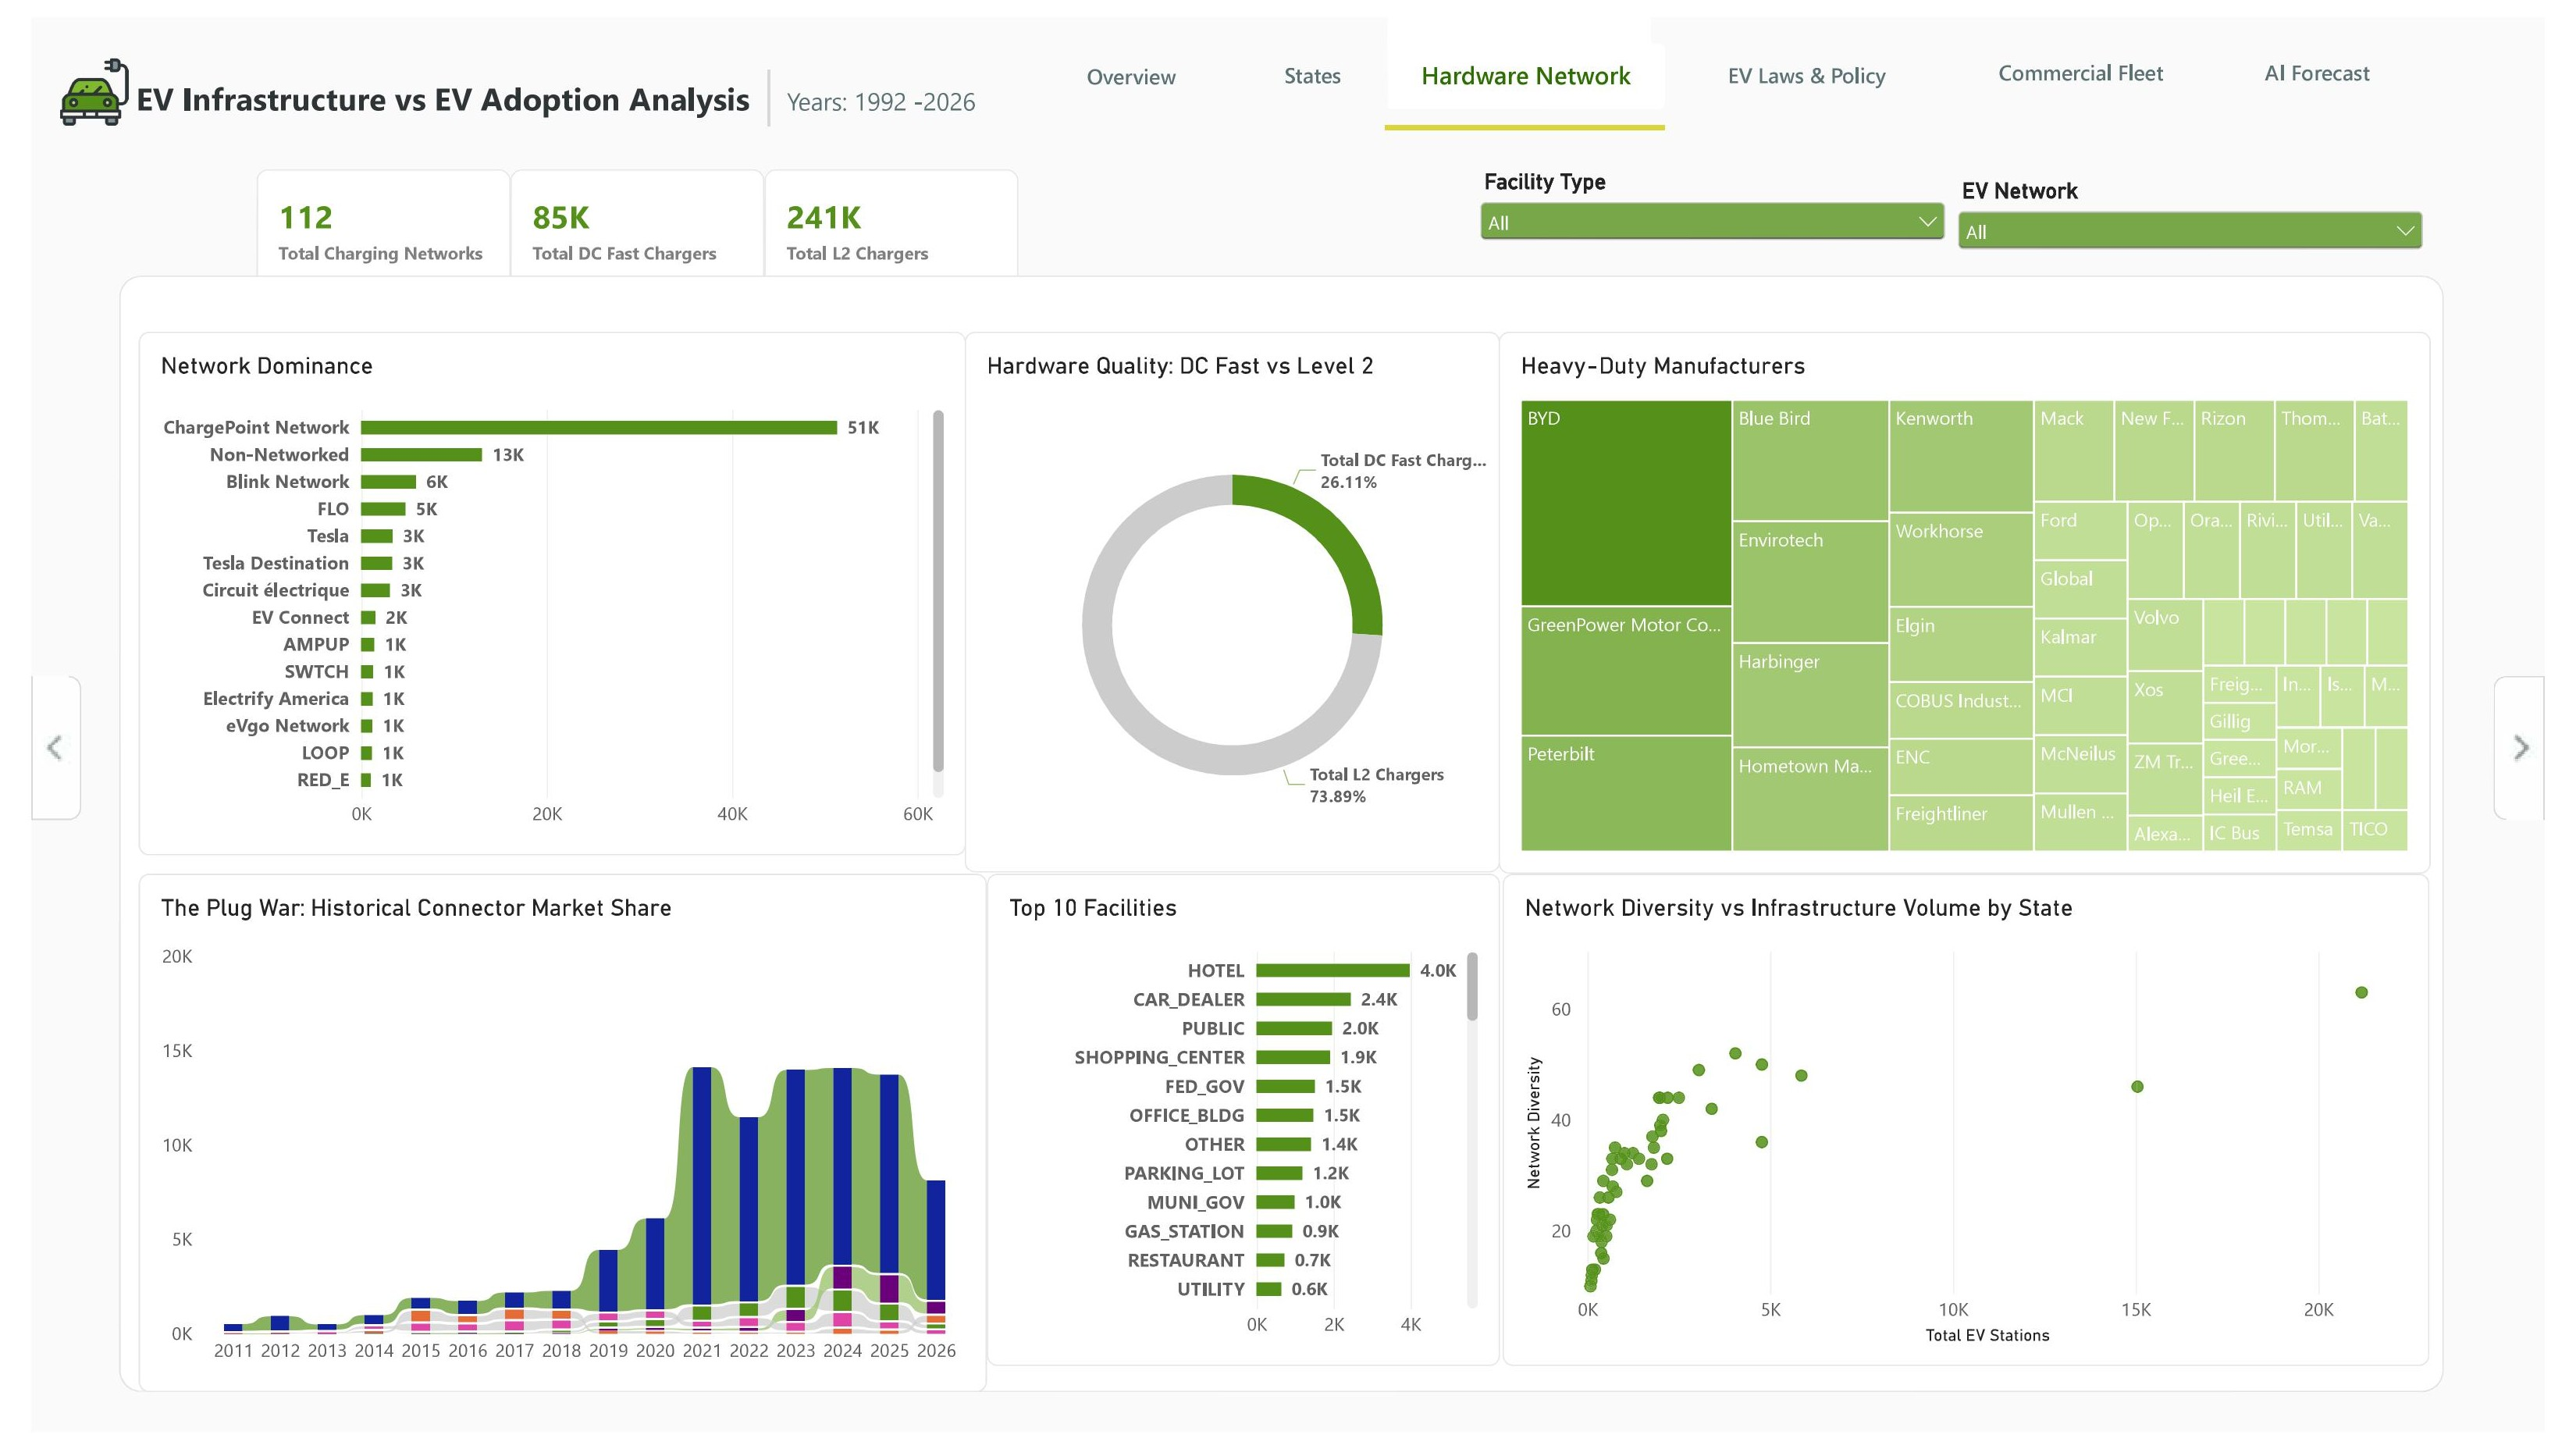

The dashboard page shown, as its layout file describes it:
{"tool":"powerbi","page":{"name":"Corporate Network Dominance","canvas":[1920,1080],"ordinal":3},"visuals":[{"type":"cardVisual","fields":{"Data":["Key Measures.Total Charging Networks","Key Measures.Total DC Fast Chargers","Key Measures.Total L2 Chargers"]},"box":[172,116,582,88],"z":0},{"type":"shape","box":[66.7,196.7,1776.7,853.3],"z":1000},{"type":"actionButton","box":[0,503.3,38.3,110],"z":2000},{"type":"clusteredBarChart","title":"Network Dominance","fields":{"Category":["alt_fuel_stations_historical_day (Aug 25 2026).EV Network"],"Y":["Key Measures.Total EV Stations"]},"box":[82,240,632,400],"z":4000},{"type":"donutChart","title":"Hardware Quality: DC Fast vs Level 2","fields":{"Y":["Key Measures.Total DC Fast Chargers","Key Measures.Total L2 Chargers"]},"box":[713.3,240,408.3,413.3],"z":5000},{"type":"treemap","title":"Heavy-Duty Manufacturers","fields":{"Group":["medium-and-heavy-duty-vehicles-2026-08-25.Manufacturer"],"Values":["CountNonNull(medium-and-heavy-duty-vehicles-2026-08-25.Model)"]},"box":[1121.2,240,711.2,413.8],"z":6000},{"type":"ribbonChart","title":"The Plug War: Historical Connector Market Share","fields":{"Y":["Key Measures.Total EV Stations"],"Category":["alt_fuel_stations_historical_day (Aug 25 2026).Year"],"Series":["alt_fuel_stations_historical_day (Aug 25 2026).EV Connector Types"]},"box":[82,654,648,396],"z":7000},{"type":"clusteredBarChart","title":"Top 10 Facilities","fields":{"Category":["alt_fuel_stations_historical_day (Aug 25 2026).Facility Type"],"Y":["Key Measures.Total EV Stations"]},"box":[730,654,392,376],"z":8000},{"type":"scatterChart","title":"Network Diversity vs Infrastructure Volume by State","fields":{"X":["Key Measures.Total EV Stations"],"Y":["Key Measures.Network Diversity"],"Category":["dim_state.State_Name"]},"box":[1124,654,708,376],"z":9000},{"type":"shape","box":[80,36.7,531.7,48.3],"z":10000},{"type":"image","box":[15,31.2,65,51.7],"z":11000},{"type":"shape","box":[576.7,45,268.3,36.7],"z":12000},{"type":"shape","box":[556.7,40,13.3,43.3],"z":13000},{"type":"shape","box":[1035.6,0,201.1,45.6],"z":14000},{"type":"actionButton","box":[912.9,18.6,132.2,50],"z":15000},{"type":"shape","box":[1034.4,70,213.3,27.8],"z":16000},{"type":"actionButton","box":[780,21.1,121.1,48.9],"z":17000},{"type":"actionButton","box":[1235,20,242.9,48.6],"z":18000},{"type":"actionButton","box":[1467.5,17.5,196.7,48.9],"z":19000},{"type":"actionButton","box":[1657.5,17.5,177.1,48.6],"z":20000},{"type":"actionButton","title":"Button Next","box":[1881.2,502.5,38.8,110],"z":21000},{"type":"actionButton","box":[1035.6,20,212.2,50],"z":22000},{"type":"slicer","fields":{"Values":["alt_fuel_stations_historical_day (Aug 25 2026).EV Network"]},"box":[1466.9,122.1,365,82.5],"z":23000},{"type":"slicer","fields":{"Values":["alt_fuel_stations_historical_day (Aug 25 2026).Facility Type"]},"box":[1102.3,115.1,365,82.5],"z":24000}]}

Visuals, with their boxes in screenshot pixels (x1, y1, x2, y2), scaled from the page's 1920x1080 canvas onto the 2576x1449 screenshot:
cardVisual - Key Measures.Total Charging Networks x Key Measures.Total DC Fast Chargers: l=231, t=155, r=1012, b=274
shape: l=90, t=264, r=2473, b=1408
actionButton: l=0, t=675, r=52, b=823
"Network Dominance" clusteredBarChart: l=110, t=322, r=958, b=859
"Hardware Quality: DC Fast vs Level 2" donutChart: l=957, t=322, r=1505, b=877
"Heavy-Duty Manufacturers" treemap: l=1504, t=322, r=2458, b=878
"The Plug War: Historical Connector Market Share" ribbonChart: l=110, t=878, r=980, b=1408
"Top 10 Facilities" clusteredBarChart: l=980, t=878, r=1505, b=1382
"Network Diversity vs Infrastructure Volume by State" scatterChart: l=1508, t=878, r=2458, b=1382
shape: l=108, t=49, r=820, b=114
image: l=20, t=42, r=108, b=111
shape: l=774, t=60, r=1133, b=109
shape: l=747, t=54, r=765, b=112
shape: l=1389, t=0, r=1660, b=61
actionButton: l=1225, t=25, r=1402, b=92
shape: l=1388, t=94, r=1674, b=131
actionButton: l=1047, t=28, r=1209, b=94
actionButton: l=1657, t=27, r=1983, b=92
actionButton: l=1969, t=23, r=2233, b=89
actionButton: l=2224, t=23, r=2461, b=89
"Button Next" actionButton: l=2524, t=675, r=2575, b=822
actionButton: l=1389, t=27, r=1674, b=94
slicer - alt_fuel_stations_historical_day (Aug 25 2026).EV Network: l=1968, t=164, r=2458, b=275
slicer - alt_fuel_stations_historical_day (Aug 25 2026).Facility Type: l=1479, t=155, r=1969, b=265
